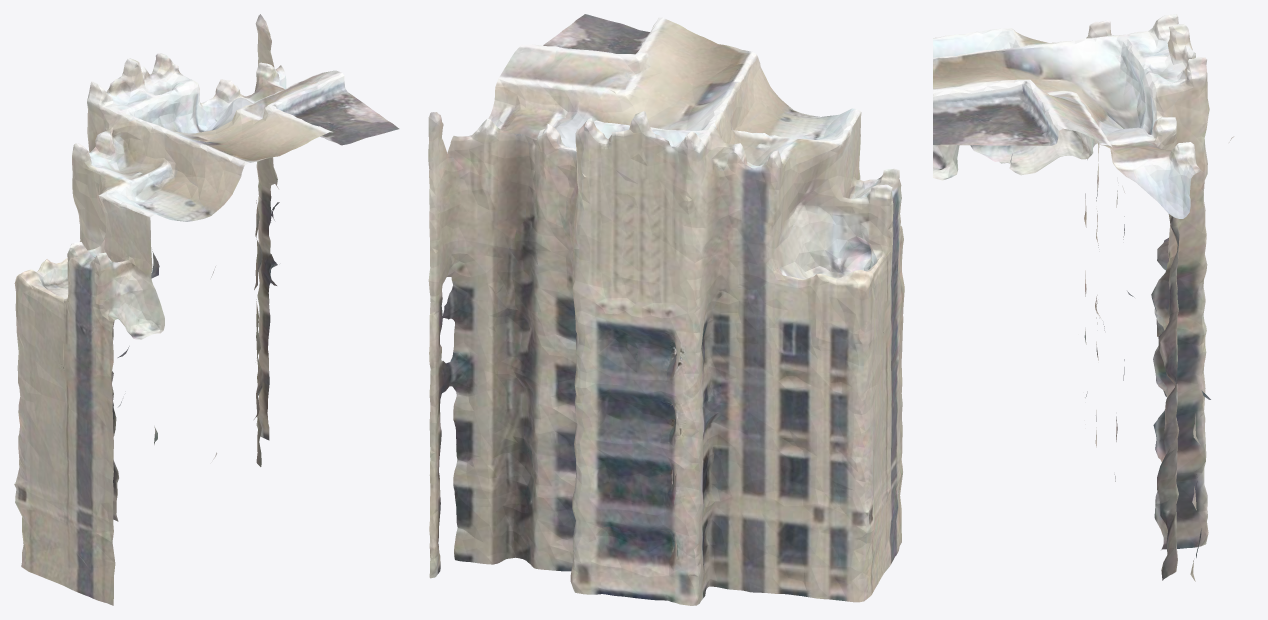
Rendered from Tile__001__005_L22_00000210.glb.
3 views of the same model, side by side, from view 1: azimuth 30°, elevation 25°; view 2: azimuth 150°, elevation 25°; view 3: azimuth 270°, elevation 25° (orthographic). The views are drawn at different scales.
Visible parts, largest first — view 1: root; view 2: root; view 3: root.
Boxes of the visible parts, x1,y1,x2,y2 form: root: [14, 14, 399, 605]; root: [428, 14, 904, 605]; root: [933, 14, 1234, 581].
Bounding box in the file's own units: 12.25 × 15.88 × 9.36.
Materials: 1 (1 with a texture image).
